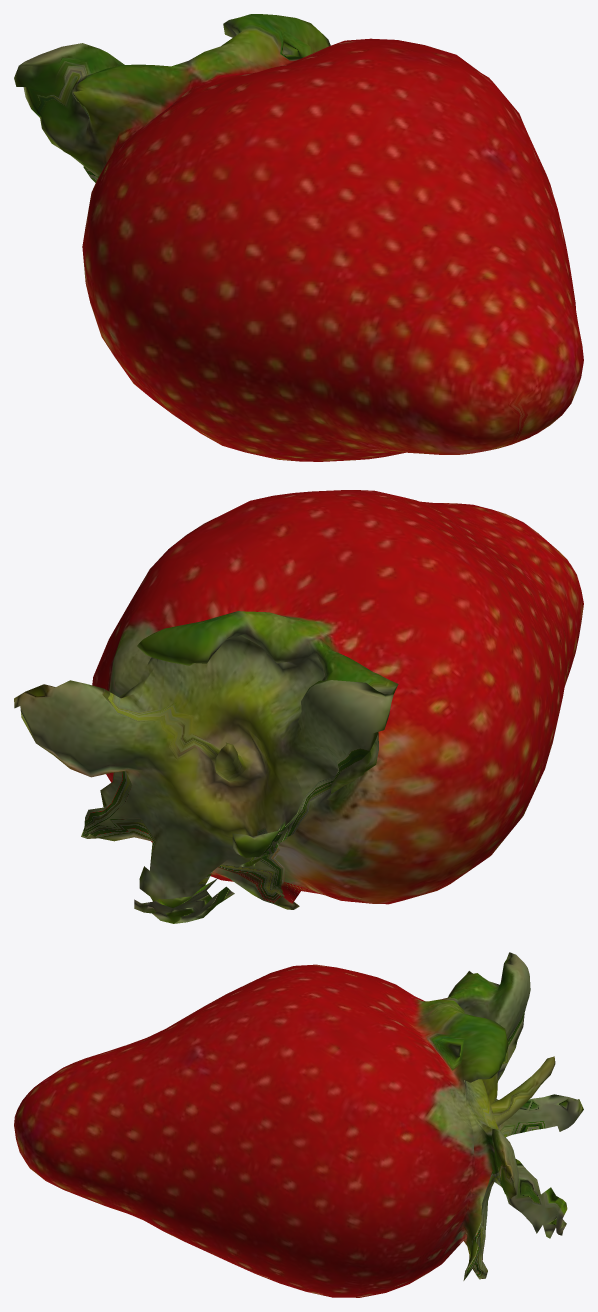
File: strawberry.glb
3 views of the same model, one above another, from view 1: azimuth 30°, elevation 25°; view 2: azimuth 150°, elevation 25°; view 3: azimuth 270°, elevation 25° (orthographic). The views are drawn at different scales.
Size of the model in its own units: 0.6523 by 0.5512 by 1.
1 material, 1 textured.
